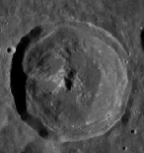crater: (5, 16, 136, 143)
